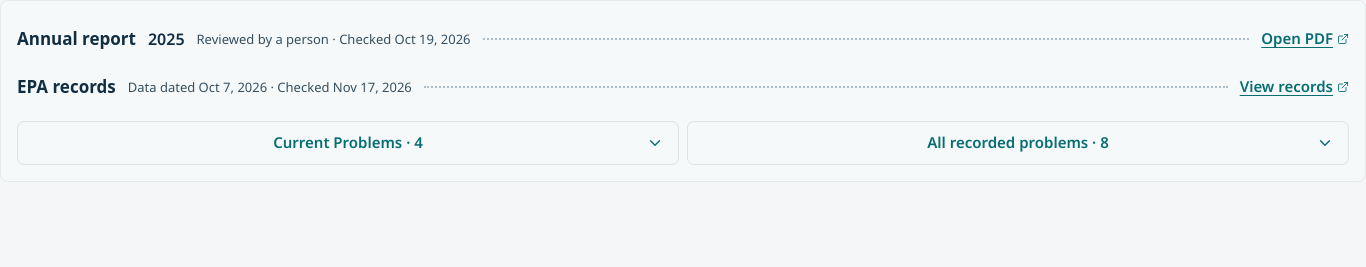
Scenario: six or more problems put every type behind its own collapsible group
What coordinates should you click on to do the following:
click the button "All recorded problems · 8"
I would click on:
 (1018, 143)
Its box is [687,121,1349,165].
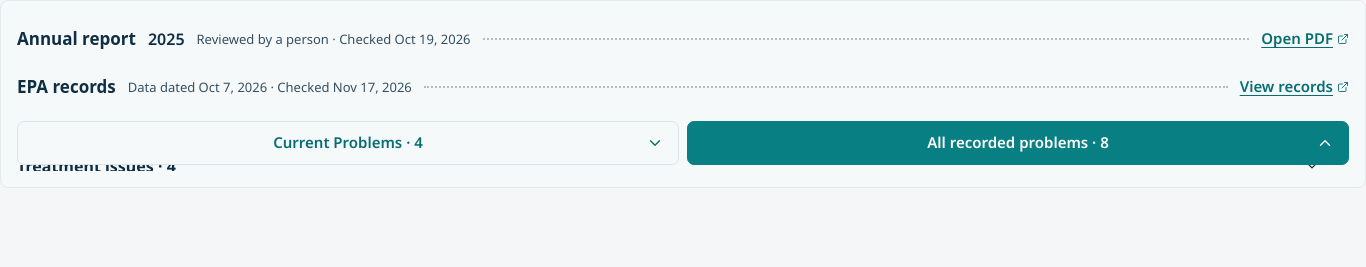
Expected: the number of elements with class "evidence-type-group" is 5
